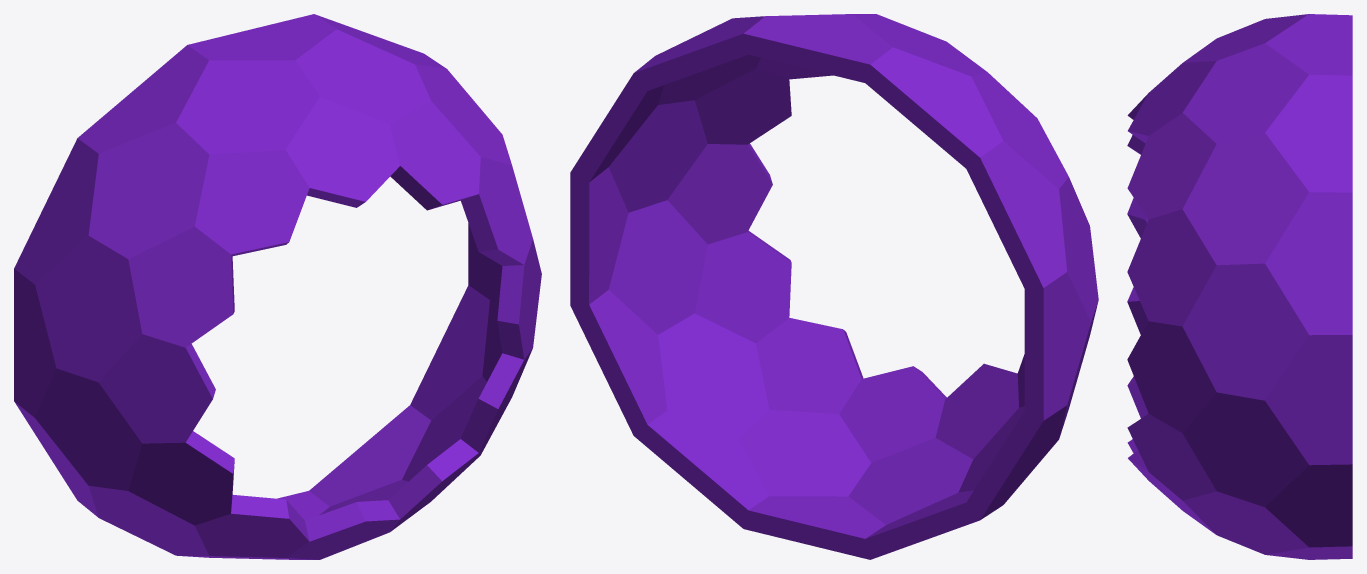
Rendered from dome_partial.obj.
3 renders of one model, left to right at view 1: azimuth 30°, elevation 25°; view 2: azimuth 150°, elevation 25°; view 3: azimuth 270°, elevation 25°, orthographic. The views are drawn at different scales.
Visible parts, largest first — view 1: object_33, object_30, object_14, object_31, object_34, object_28, object_23, object_27, object_16, object_24, object_12, object_32 (+20 smaller); view 2: object_8, object_4, object_26, object_32, object_35, object_36, object_13, object_2, object_20, object_29, object_5, object_1 (+17 smaller); view 3: object_7, object_11, object_10, object_4, object_6, object_15, object_16, object_9, object_5, object_12, object_2, object_8 (+9 smaller).
Boxes of the visible parts, <box> form: object_33: <box>88,123,209,259</box>; object_30: <box>35,235,142,382</box>; object_14: <box>176,60,319,154</box>; object_31: <box>128,226,234,347</box>; object_34: <box>194,149,309,256</box>; object_28: <box>99,334,215,443</box>; object_23: <box>285,96,400,207</box>; object_27: <box>35,368,142,490</box>; object_16: <box>296,29,430,123</box>; object_24: <box>128,431,234,525</box>; object_12: <box>390,101,480,210</box>; object_32: <box>14,138,98,284</box>; object_8: <box>658,313,769,438</box>; object_4: <box>608,200,707,334</box>; object_26: <box>739,409,870,496</box>; object_32: <box>966,141,1066,288</box>; object_35: <box>865,47,1003,168</box>; object_36: <box>695,230,791,343</box>; object_13: <box>756,318,863,413</box>; object_2: <box>570,290,667,435</box>; object_20: <box>634,410,768,528</box>; object_29: <box>1024,272,1090,420</box>; object_5: <box>667,143,772,244</box>; object_1: <box>743,14,892,82</box>; object_7: <box>1182,263,1308,400</box>; object_11: <box>1182,133,1308,265</box>; object_10: <box>1265,192,1352,335</box>; object_4: <box>1182,392,1308,507</box>; object_6: <box>1265,335,1352,465</box>; object_15: <box>1265,74,1352,192</box>; object_16: <box>1182,43,1308,143</box>; object_9: <box>1127,209,1216,326</box>; object_5: <box>1127,321,1216,432</box>; object_12: <box>1127,113,1216,219</box>; object_2: <box>1265,464,1352,547</box>; object_8: <box>1183,491,1308,554</box>.
Size of the model in its own units: 1.56 by 1.56 by 0.6541.
